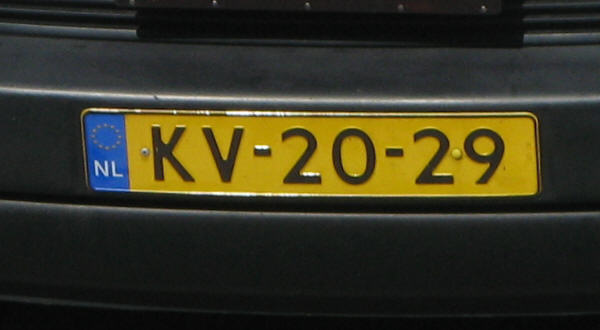license_plate: (79, 107, 543, 194)
